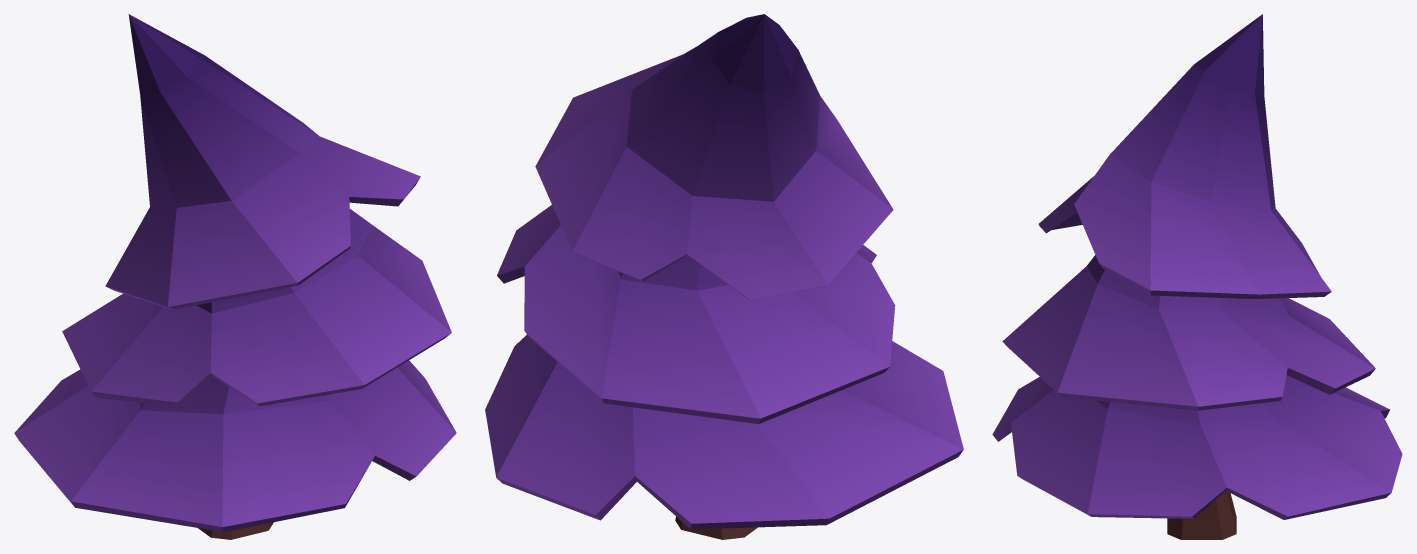
File: MagicPine4.fbx
3 renders of one model, left to right at view 1: azimuth 30°, elevation 25°; view 2: azimuth 150°, elevation 25°; view 3: azimuth 270°, elevation 25°, orthographic. The views are drawn at different scales.
Visible parts, largest first — view 1: MagicPine4; view 2: MagicPine4; view 3: MagicPine4.
Boxes of the visible parts, x1,y1,x2,y2 form: MagicPine4: (14,14,456,539); MagicPine4: (485,14,963,539); MagicPine4: (992,14,1402,539).
Size of the model in its own units: 436 by 551 by 428.
